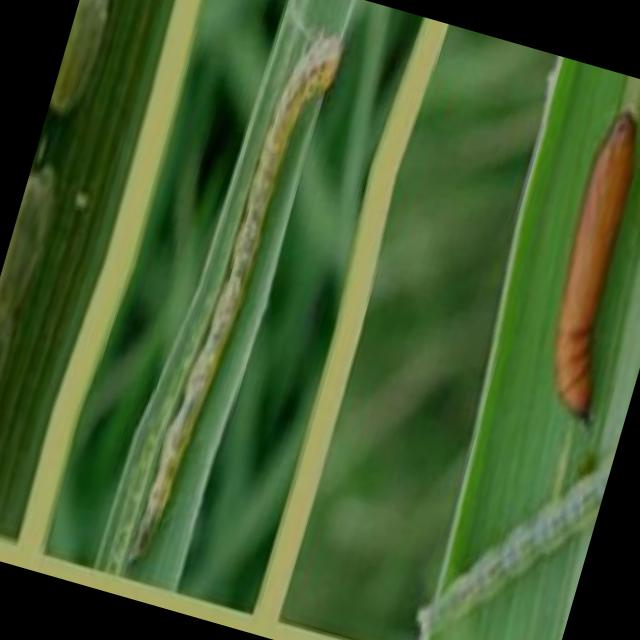leaf-folder: (123, 0, 344, 578), (442, 100, 640, 640)
